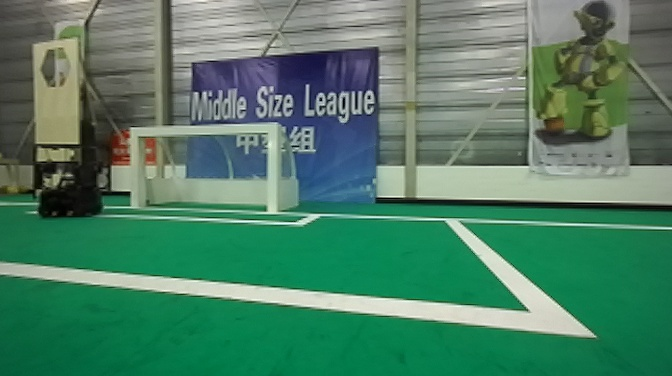goal: (128, 120, 282, 215)
goalpost: (265, 120, 280, 216), (128, 126, 142, 210)
robot: (31, 141, 115, 222)
